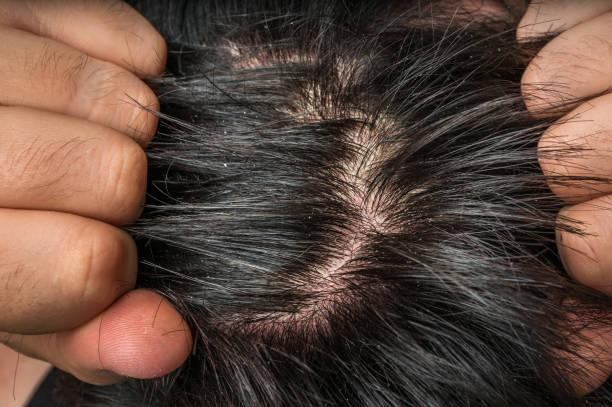dandruff: (280, 16, 301, 29), (258, 19, 274, 35), (236, 106, 253, 121), (214, 125, 231, 138), (408, 234, 427, 245), (216, 153, 229, 169), (462, 48, 475, 61), (496, 46, 509, 56)
